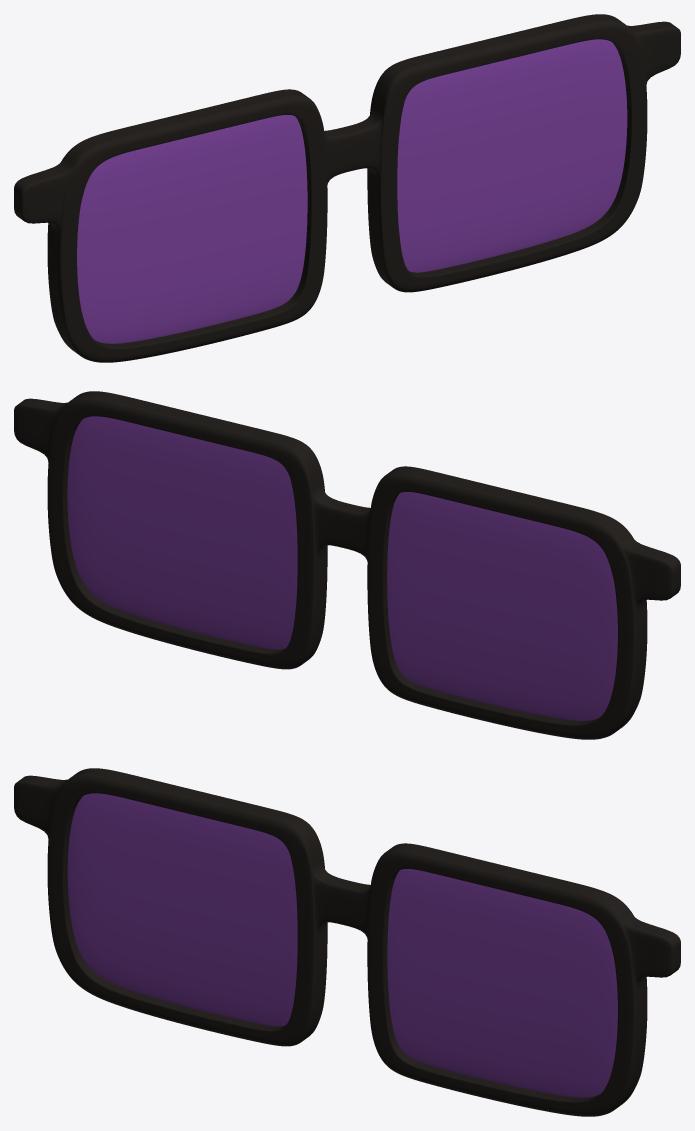
Rendered from asset.glb.
3 renders of one model, top to bottom at view 1: azimuth 30°, elevation 25°; view 2: azimuth 150°, elevation 25°; view 3: azimuth 330°, elevation 25°, orthographic.
Parts seen in each view (by area): view 1: レンズ, フレーム; view 2: レンズ, フレーム; view 3: レンズ, フレーム.
Part boxes in pixels (bbox=[...]): レンズ: bbox=[77, 39, 627, 343]; フレーム: bbox=[14, 14, 680, 362]; レンズ: bbox=[67, 416, 617, 720]; フレーム: bbox=[14, 391, 680, 739]; レンズ: bbox=[67, 793, 617, 1097]; フレーム: bbox=[14, 768, 680, 1116].
Bounding box in the file's own units: 5.21 × 1.72 × 0.1941.
